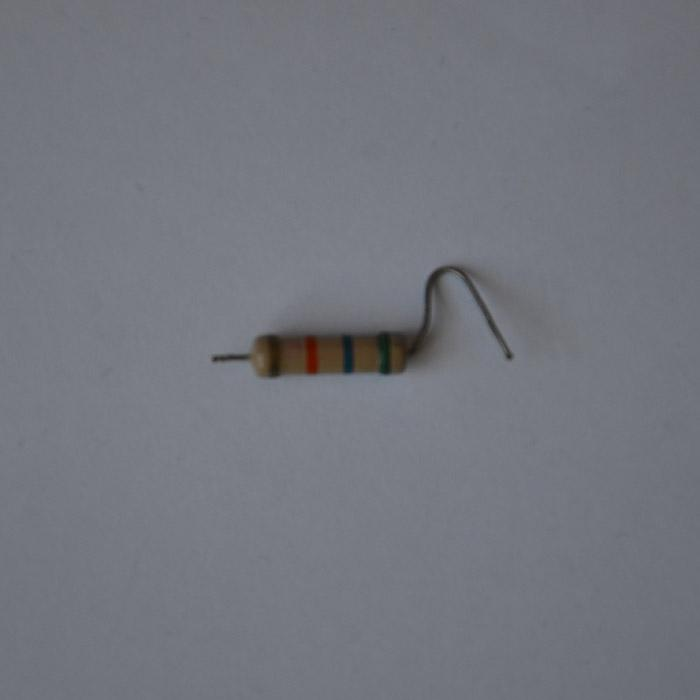resistor: (238, 330, 409, 378)
